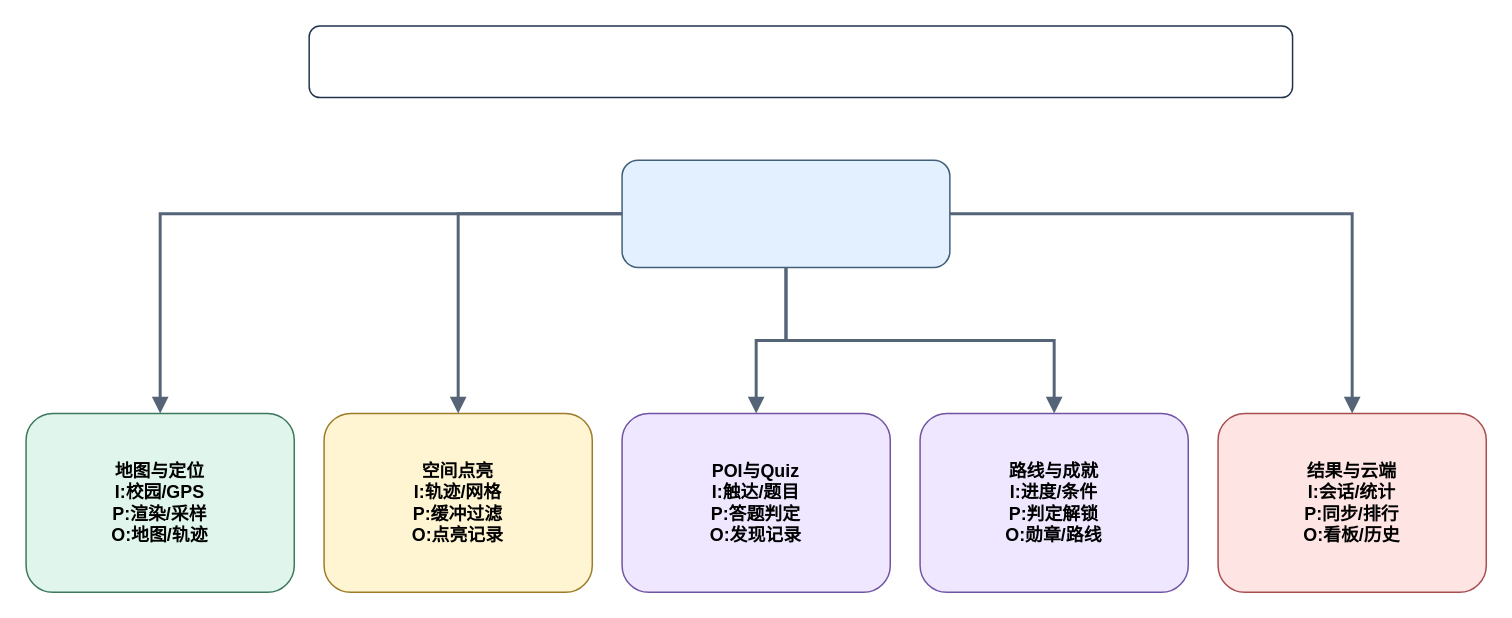
Some shapes in this 1512 by 618 pixel diagram are drawn without their labels. The centre of each missing label's shape, as x and y in pixels:
"HIPO图" belongs at (x=800, y=61).
"师大快跑校园空间 探索系统" belongs at (x=785, y=213).
